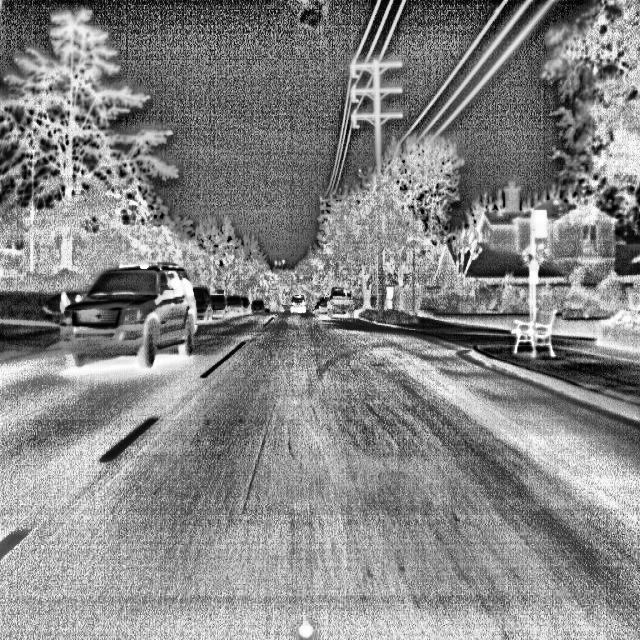car: (64, 255, 200, 385), (180, 258, 226, 335), (317, 281, 355, 322), (278, 290, 311, 325), (212, 270, 231, 324), (223, 286, 245, 318), (244, 278, 261, 314)
chair: (500, 304, 565, 372)
